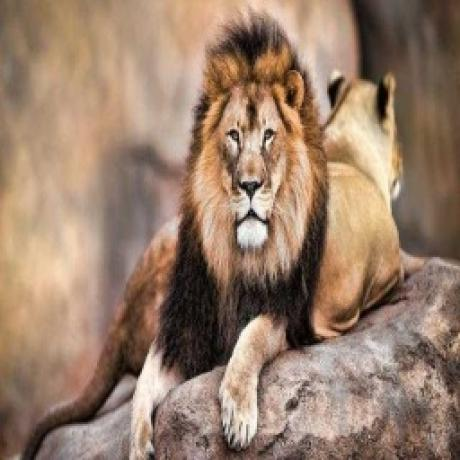Lion: (127, 8, 400, 460)
